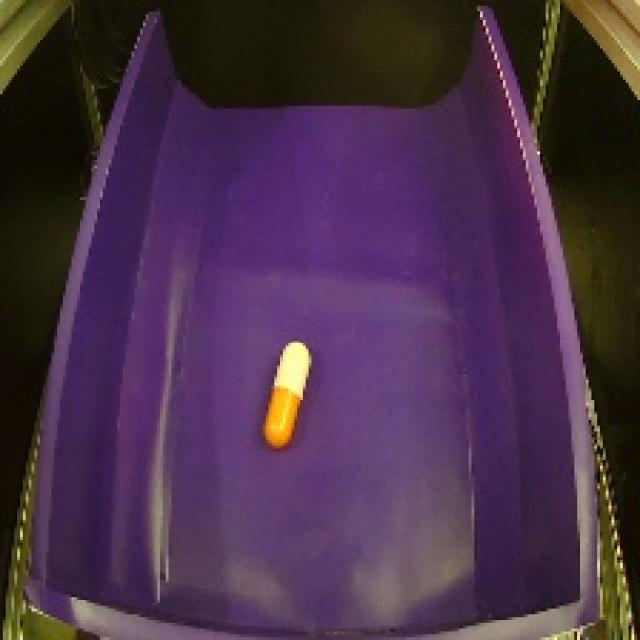small: (256, 338, 317, 454)
